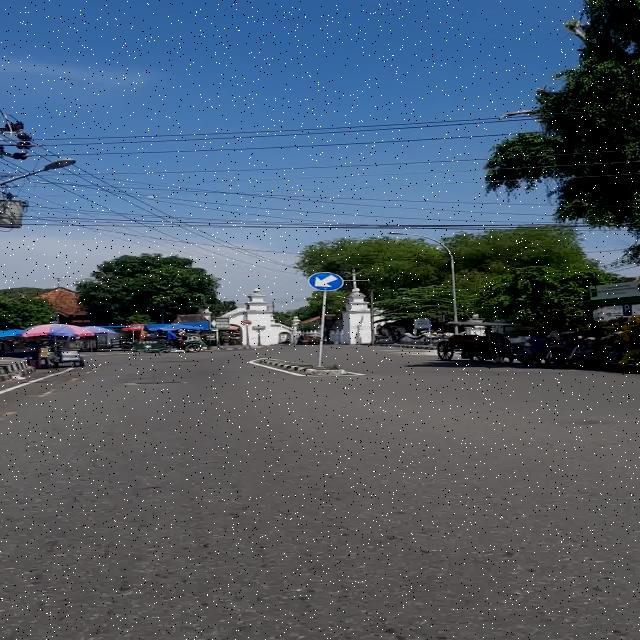Lajur Kiri: (308, 272, 344, 292)
